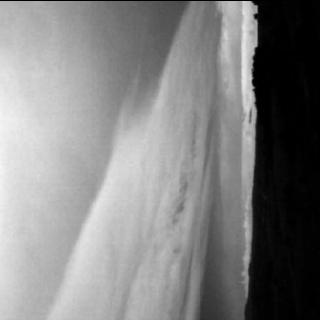Stratus: (0, 0, 251, 320)
